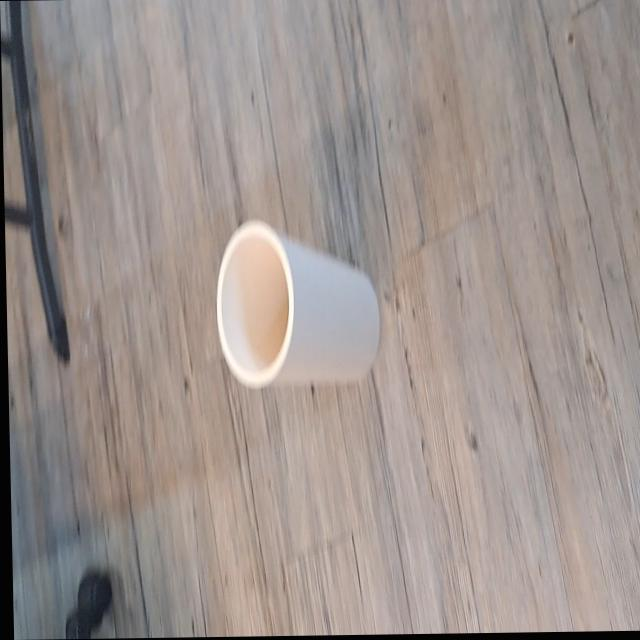CORAL: (190, 197, 398, 412)
